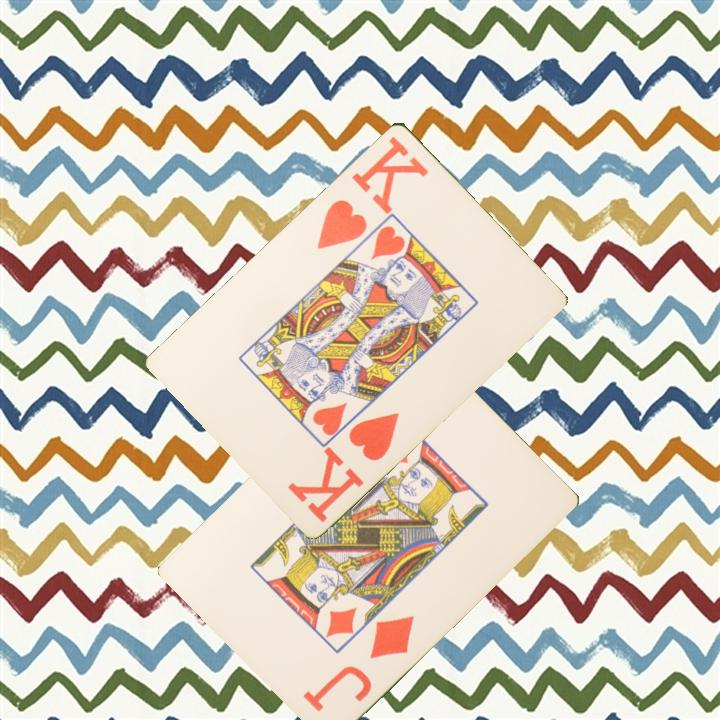Jd: (298, 610, 418, 715)
Kh: (313, 131, 432, 252), (284, 408, 402, 524)
